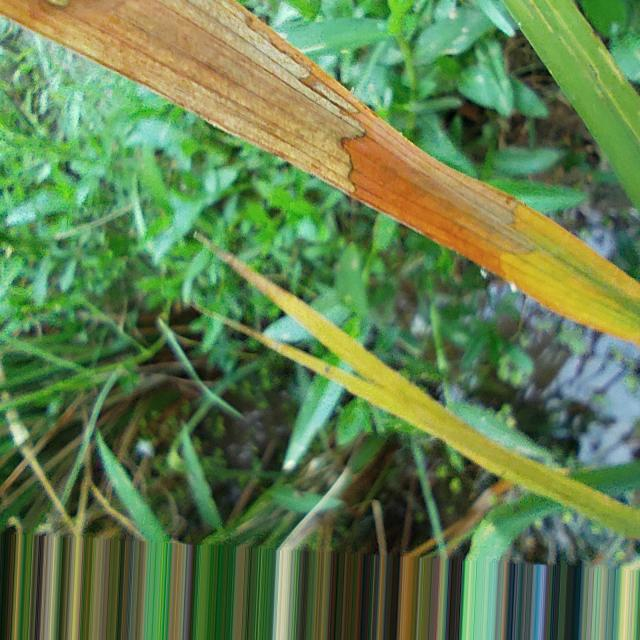Leaf_Blast: (200, 237, 640, 538)
Rice False Smut: (0, 0, 365, 192)
